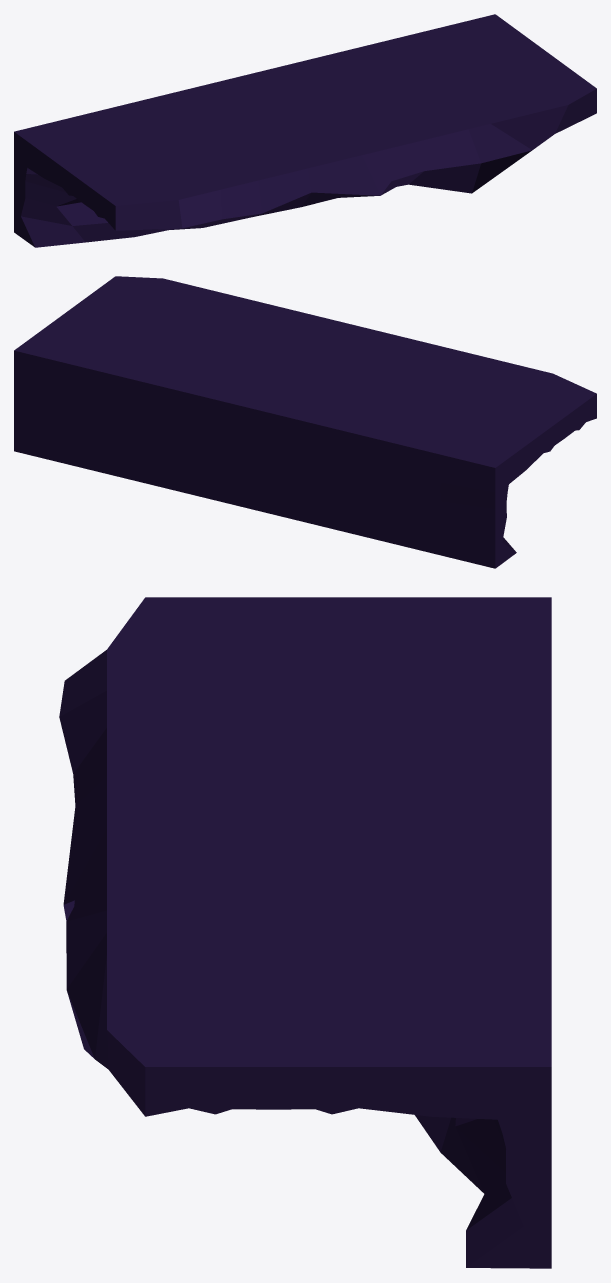
The model's file is cave_wall_top_001_msh.fbx.
The picture shows the model from 3 angles, top to bottom: view 1: azimuth 30°, elevation 25°; view 2: azimuth 150°, elevation 25°; view 3: azimuth 270°, elevation 25°; orthographic projection. The views are drawn at different scales.
Visible parts, largest first — view 1: cave_wall_top_001_msh; view 2: cave_wall_top_001_msh; view 3: cave_wall_top_001_msh.
Boxes of the visible parts, x1,y1,x2,y2 form: cave_wall_top_001_msh: (14, 14, 596, 247); cave_wall_top_001_msh: (14, 276, 596, 568); cave_wall_top_001_msh: (59, 597, 551, 1268).
Size of the model in its own units: 2000 by 400 by 886.
